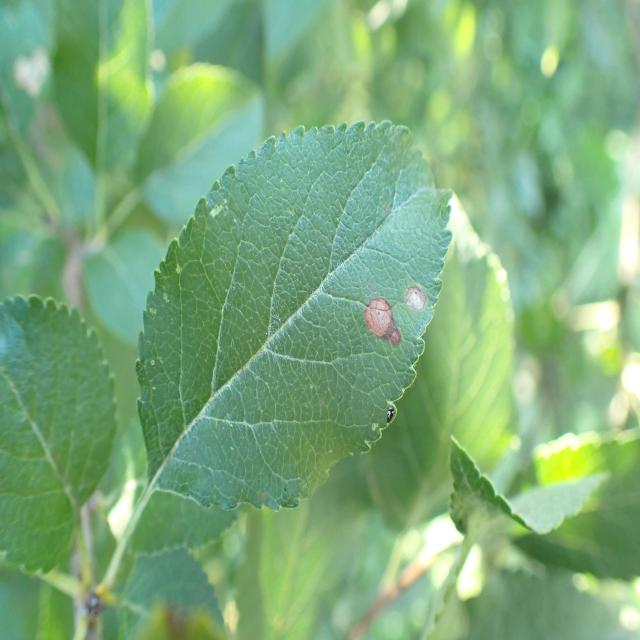frog-eye-leaf-spot: (135, 118, 454, 514)
